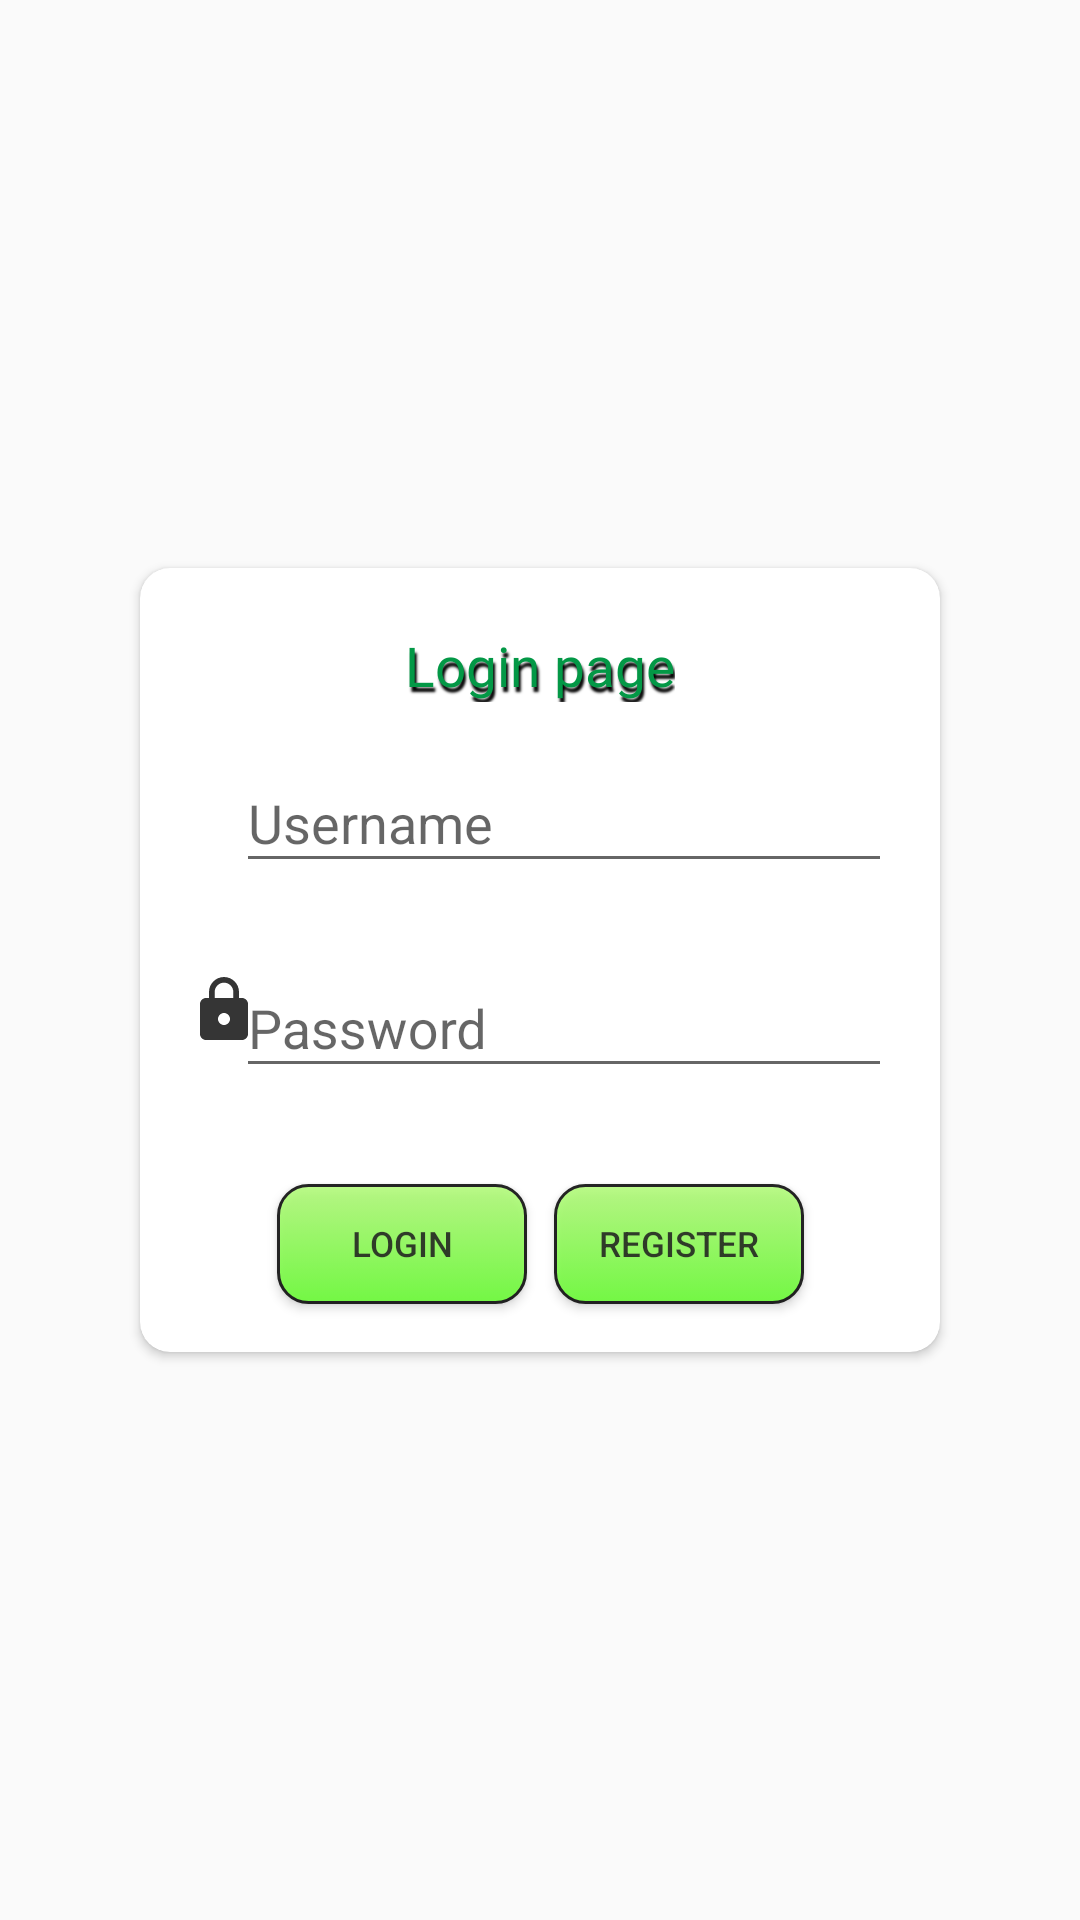

Point at icon controls on the screen. Image size 1080x1920, points as (x,y).
lock: (224,1008)
